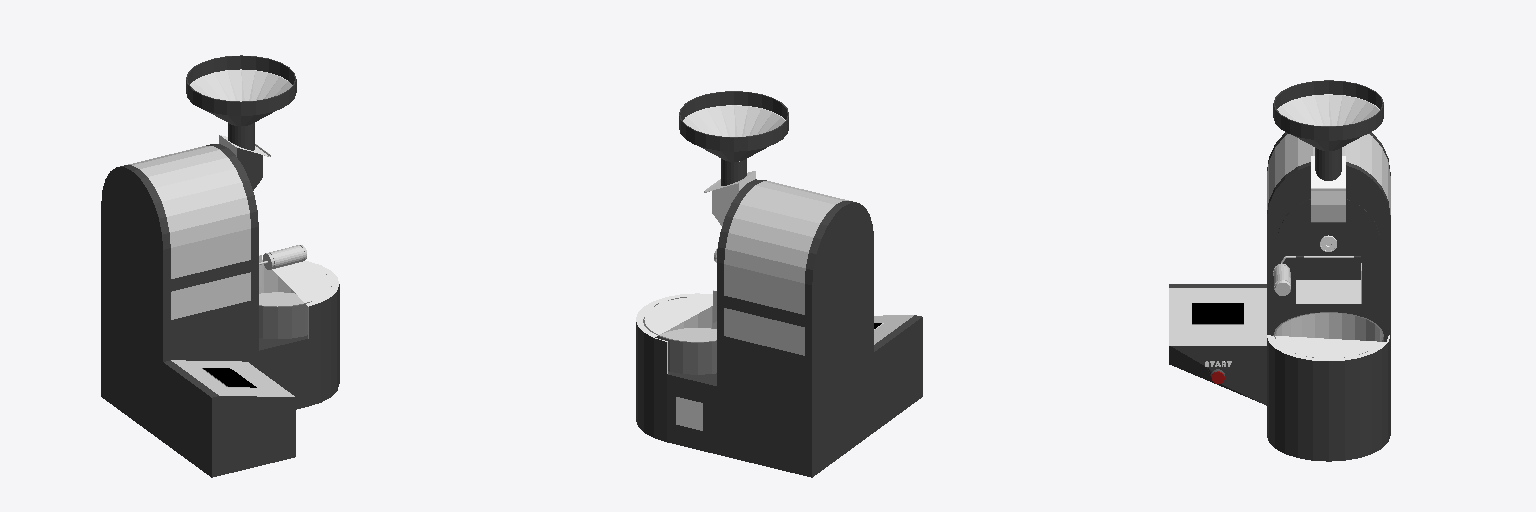
The model's file is roaster.obj.
3 views of the same model, side by side, from view 1: azimuth 30°, elevation 25°; view 2: azimuth 150°, elevation 25°; view 3: azimuth 270°, elevation 25° (orthographic).
Parts seen in each view (by area): view 1: Mesh6 Model; view 2: Mesh6 Model; view 3: Mesh6 Model.
Part boxes in pixels (x1,y1,x2,y2): Mesh6 Model: (101, 55, 339, 477); Mesh6 Model: (636, 91, 922, 477); Mesh6 Model: (1169, 80, 1390, 461).
Bounding box in the file's own units: 52 × 78.42 × 50.